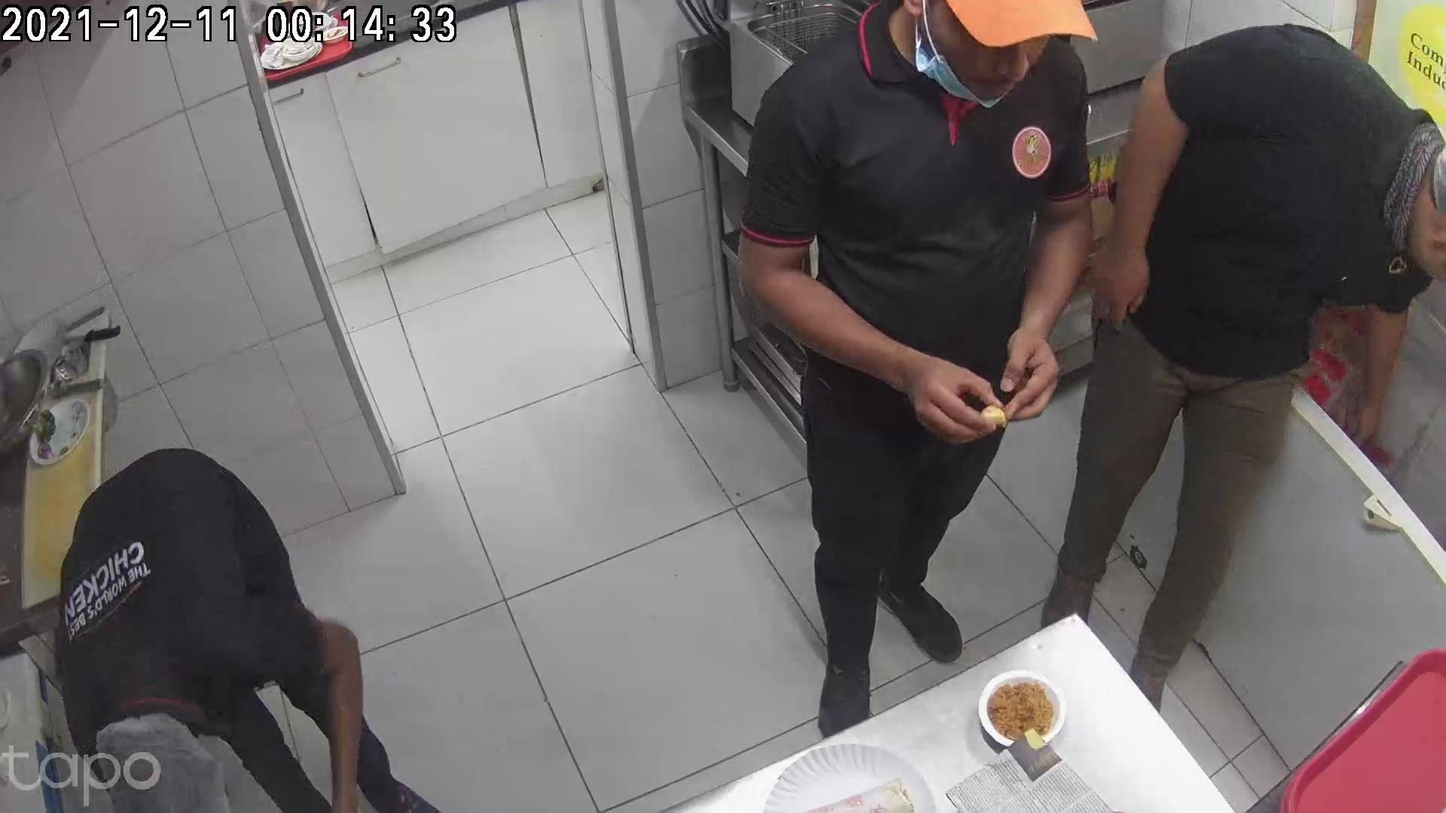no_gloves: (837, 260, 999, 349)
